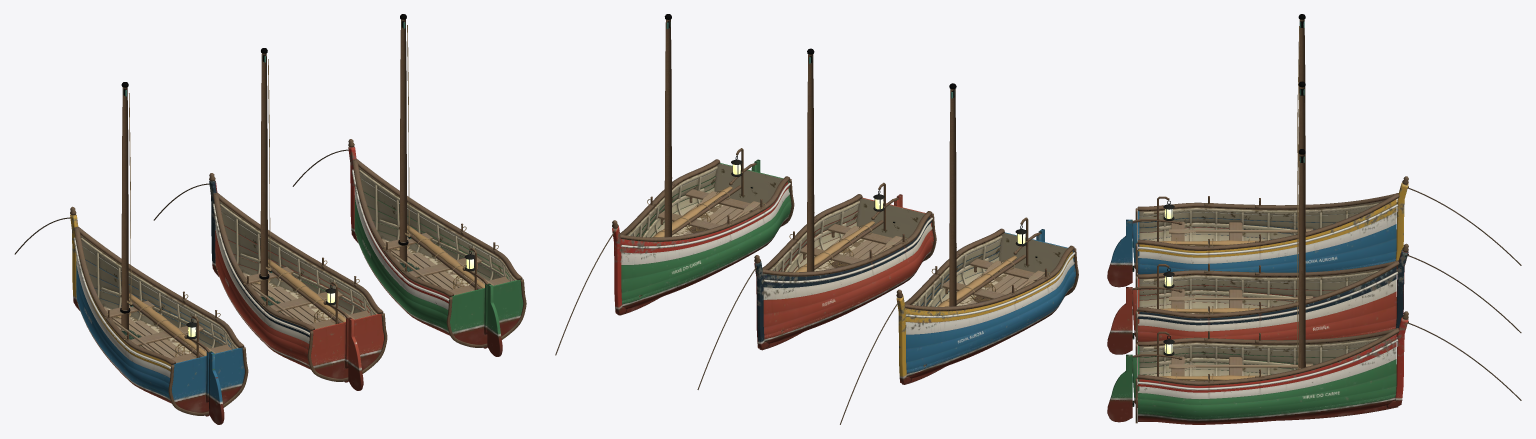
File: dornas_fondeadas.glb
3 views of the same model, side by side, from view 1: azimuth 30°, elevation 25°; view 2: azimuth 150°, elevation 25°; view 3: azimuth 270°, elevation 25° (orthographic). The views are drawn at different scales.
Visible parts, largest first — view 1: Timber, Timber_B, Timber_C, Paint_C, Paint_B, Paint_A, Gear_C, Gear_B, Gear; view 2: Paint_B, Paint_C, Paint_A, Timber, Timber_B, Timber_C, Gear_B, Gear, Gear_C; view 3: Paint_C, Paint_A, Paint_B, Timber_C, Timber_B, Timber, Gear_C, Gear_B, Gear.
Boxes of the visible parts, x1,y1,x2,y2 form: Timber: (70, 87, 248, 415); Timber_B: (209, 53, 387, 381); Timber_C: (348, 19, 526, 347); Paint_C: (348, 146, 523, 356); Paint_B: (209, 180, 383, 390); Paint_A: (70, 214, 244, 424); Gear_C: (292, 14, 498, 329); Gear_B: (153, 48, 359, 363); Gear: (14, 82, 220, 397); Paint_B: (754, 194, 933, 350); Paint_C: (612, 159, 791, 315); Paint_A: (896, 229, 1076, 384); Timber: (896, 89, 1078, 311); Timber_B: (754, 54, 936, 276); Timber_C: (612, 19, 794, 241); Gear_B: (697, 48, 908, 389); Gear: (840, 83, 1050, 424); Gear_C: (555, 14, 765, 355); Paint_C: (1107, 317, 1408, 424); Paint_A: (1107, 182, 1408, 287); Paint_B: (1107, 250, 1408, 354); Timber_C: (1132, 154, 1408, 423); Timber_B: (1132, 87, 1408, 343); Timber: (1132, 19, 1408, 275); Gear_C: (1132, 149, 1521, 406); Gear_B: (1132, 81, 1521, 339); Gear: (1132, 14, 1521, 271).
Size of the model in its own units: 9.78 by 6.76 by 9.34.
Materials: 5 (4 with a texture image).
